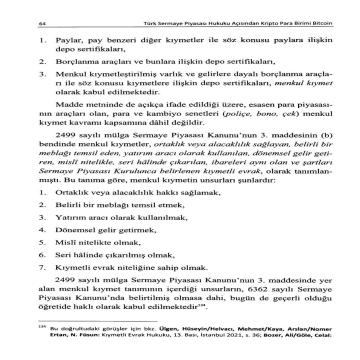footer: (48, 325, 334, 340)
header: (142, 21, 336, 26)
